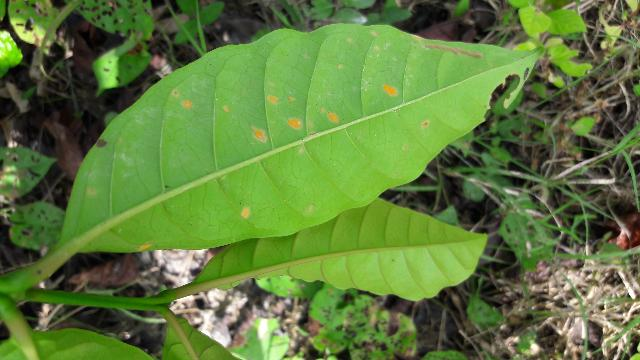rust_level_2: (62, 23, 541, 257)
